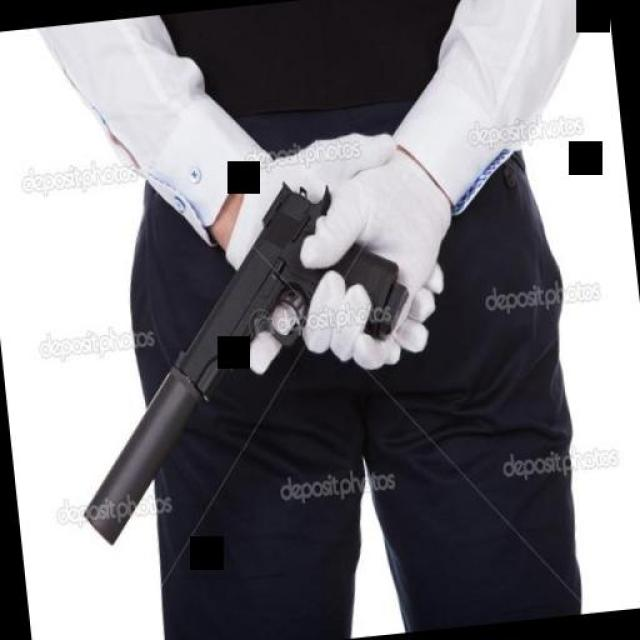gun: (29, 135, 431, 581)
